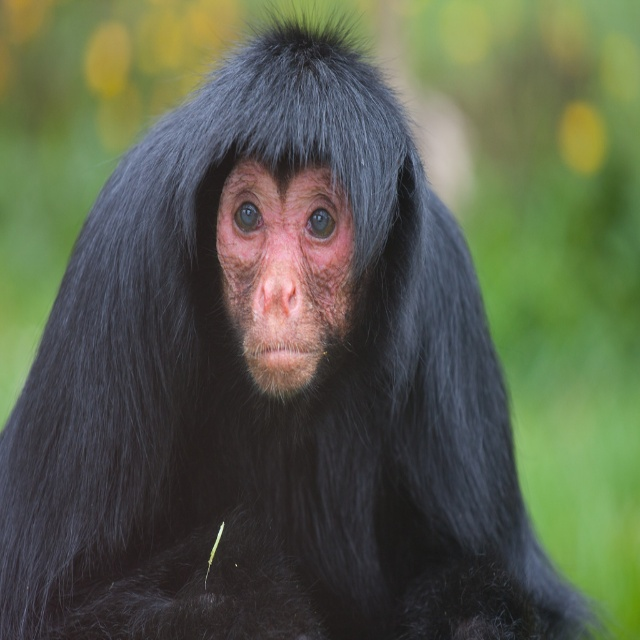Monkey: (0, 0, 619, 640)
